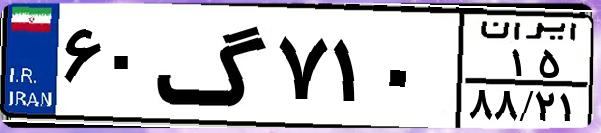0: (385, 28, 445, 110), (110, 28, 156, 98)
1: (330, 28, 385, 110), (560, 70, 590, 125), (508, 27, 537, 80)
2: (535, 70, 560, 125)
5: (537, 27, 568, 80)
6: (57, 26, 110, 100)
7: (270, 28, 330, 110)
8: (470, 70, 495, 125), (495, 70, 520, 125)
گ: (156, 12, 270, 120)
